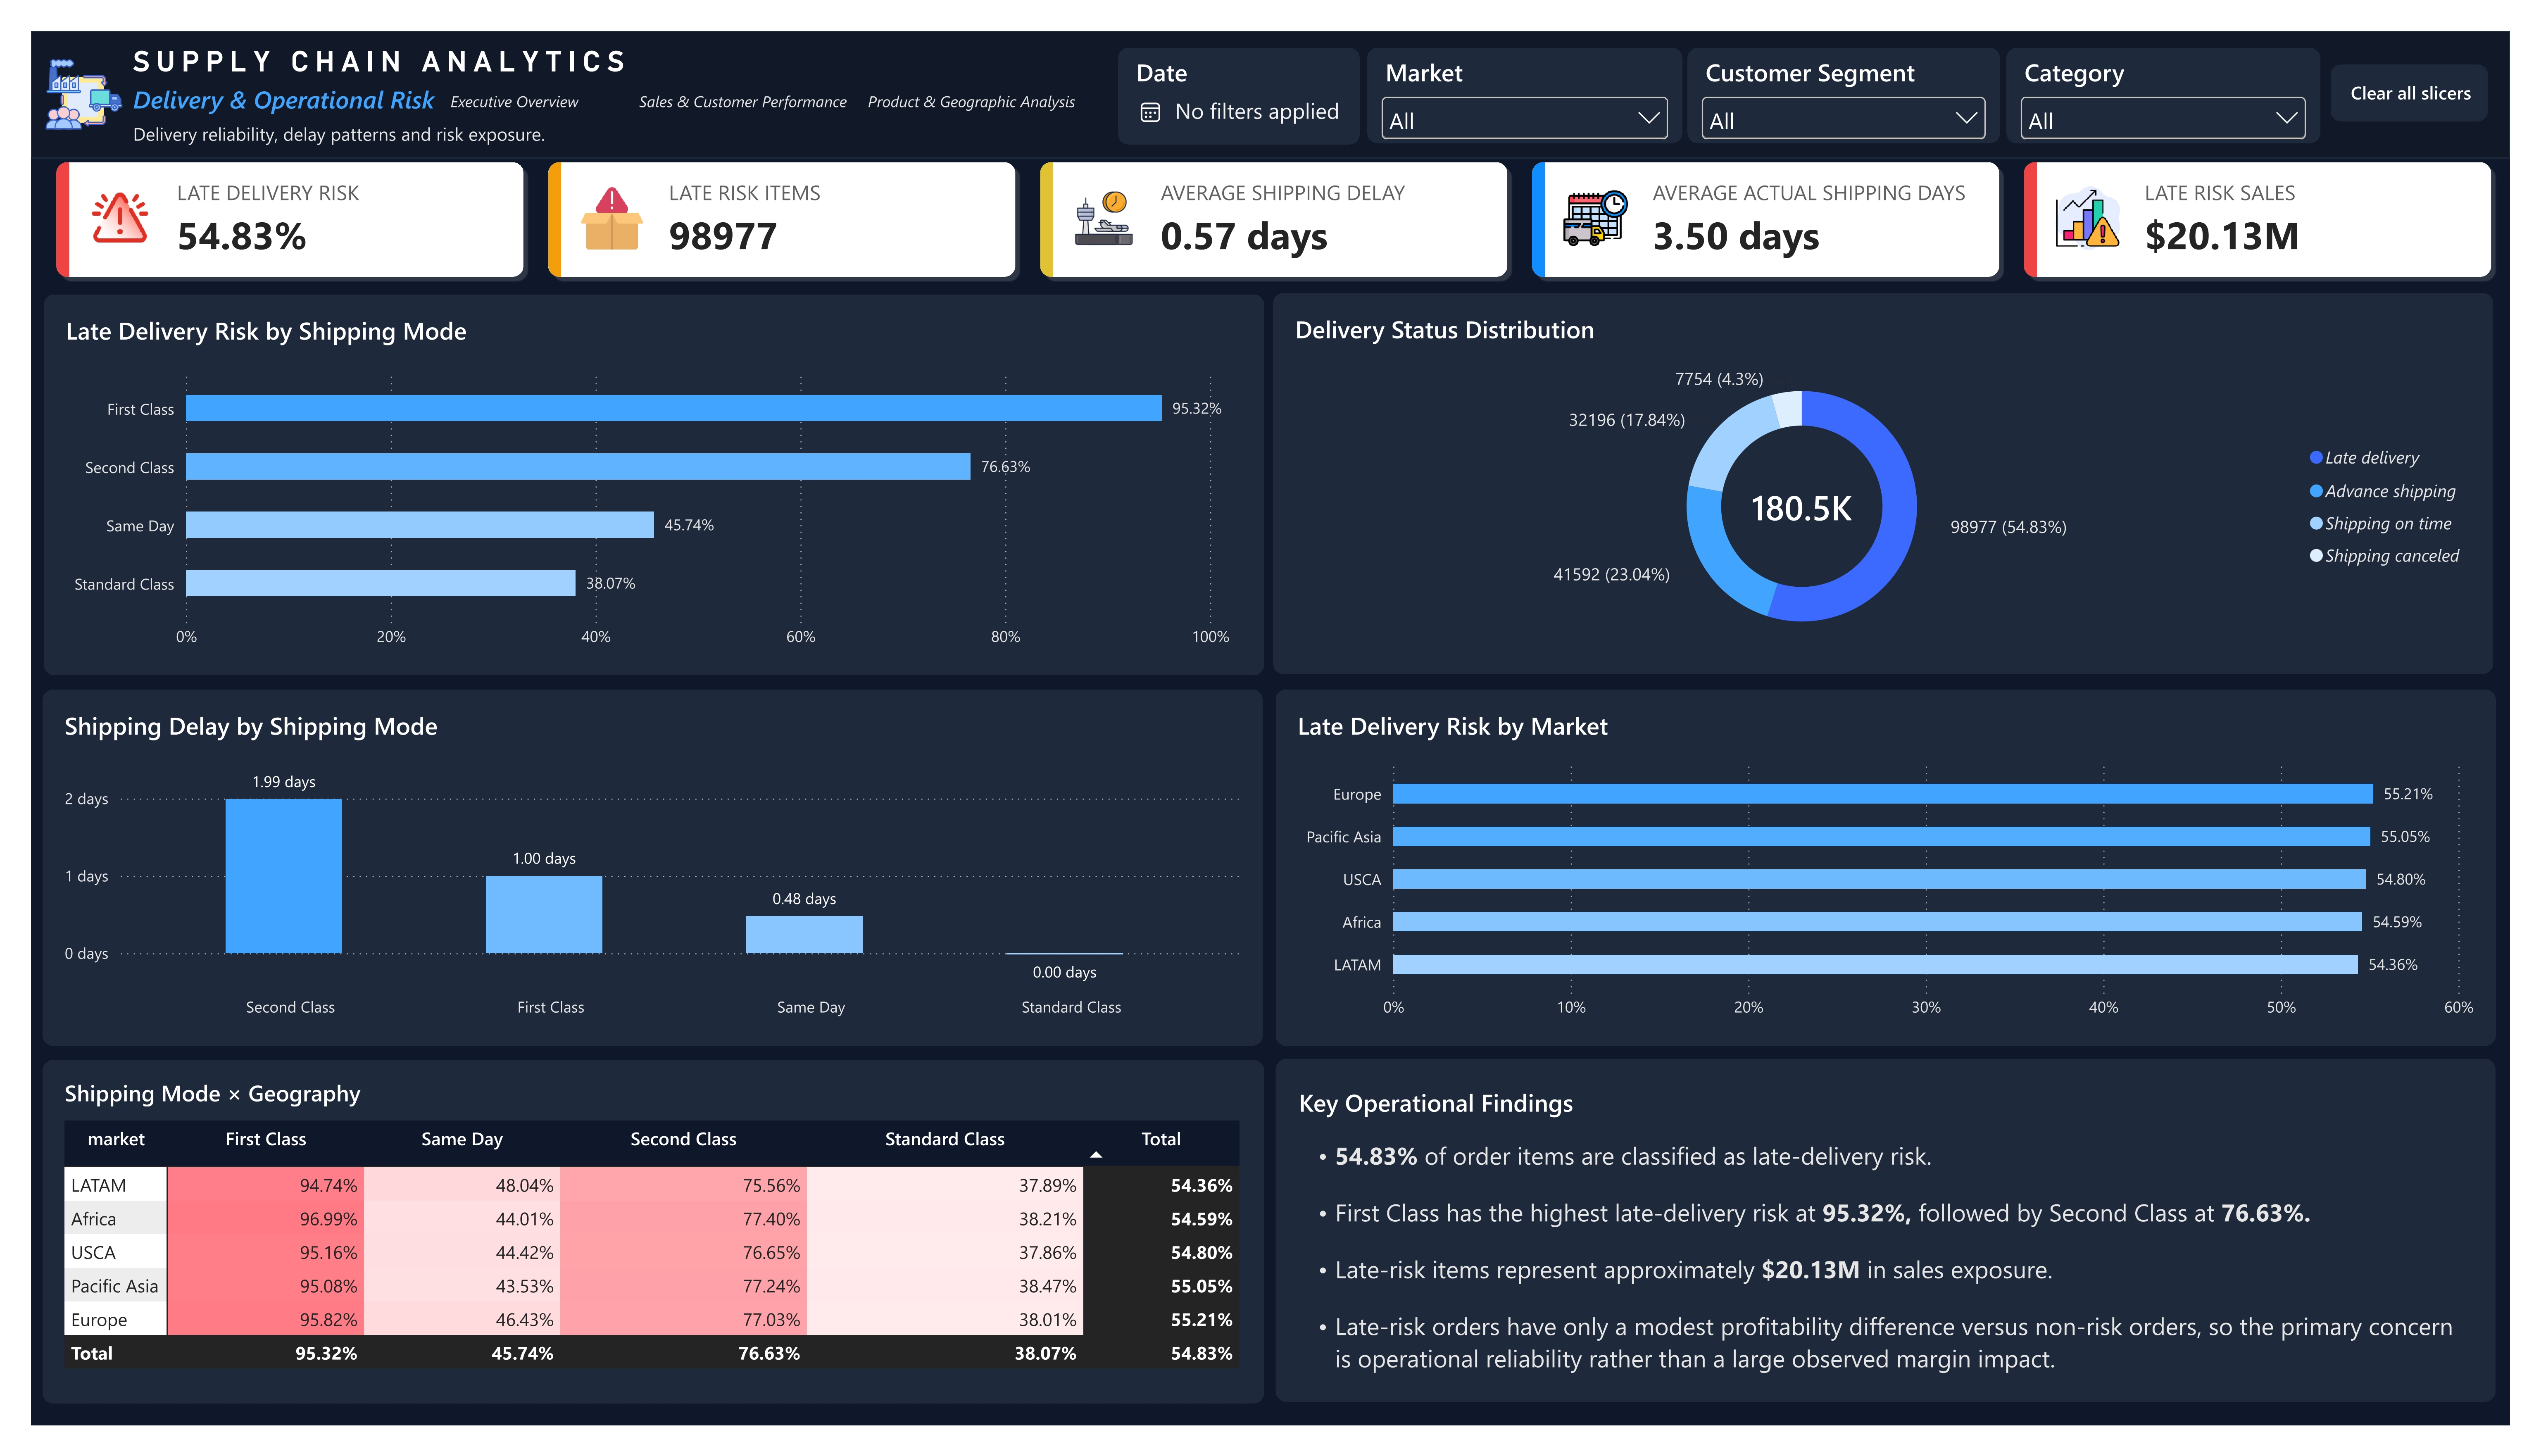

This screenshot's page, from the dashboard's own definition file:
{"tool":"powerbi","page":{"name":"Delivery & Operational Risk","canvas":[1920,1080],"ordinal":2},"visuals":[{"type":"shape","box":[0,0,1919.6,99.4],"z":0,"group":"g3"},{"type":"shape","box":[963.8,796.2,945,266.2],"z":0,"group":"g2"},{"type":"group","id":"g1","title":"Filter pane","box":[841.7,13.3,1060.9,75],"z":62,"group":"g3"},{"type":"textbox","title":"S U P P L Y   C H A I N   A N A L Y T I C S","box":[74.3,5.7,400,90],"z":93,"group":"g3"},{"type":"pageNavigator","box":[290,40,525.5,30],"z":125,"group":"g3"},{"type":"image","box":[10.6,18.9,60,60],"z":750,"group":"g3"},{"type":"clusteredBarChart","title":"Late Delivery Risk by Shipping Mode","fields":{"Category":["dim_shipping.shipping_mode"],"Y":["_Measures.Late Delivery Risk %"]},"box":[10,203.8,945.1,295],"z":1000},{"type":"donutChart","title":"Delivery Status Distribution","fields":{"Category":["fact_order_items.delivery_status"],"Y":["_Measures.Total Order Items"]},"box":[962,203.2,945.1,295],"z":2000},{"type":"clusteredColumnChart","title":"Shipping Delay by Shipping Mode","fields":{"Category":["dim_shipping.shipping_mode"],"Y":["_Measures.Average Shipping Delay"]},"box":[9.2,510,945.1,276.1],"z":3000},{"type":"clusteredBarChart","title":"Late Delivery Risk by Market","fields":{"Y":["_Measures.Late Delivery Risk %"],"Category":["dim_location.market"]},"box":[963.8,510,945,276],"z":4000},{"type":"pivotTable","title":"Shipping Mode × Geography","fields":{"Rows":["dim_location.market"],"Columns":["dim_shipping.shipping_mode"],"Values":["_Measures.Late Delivery Risk %"]},"box":[9.2,796.9,945.3,265.6],"z":5000},{"type":"cardVisual","fields":{"Data":["_Measures.Late Delivery Risk %","_Measures.Late Risk Items","_Measures.Average Shipping Delay","_Measures.Average Actual Shipping Days","_Measures.Late Risk Sales"]},"box":[13.7,95.9,1900,100],"z":5250},{"type":"actionButton","box":[1780.4,26.4,122.2,44.4],"z":5500,"group":"g1"},{"type":"group","id":"g2","title":"Insights","box":[963.8,796.2,945.4,266.2],"z":5500},{"type":"slicer","title":"Date","fields":{"Values":["dim_date.full_date"]},"box":[841.7,13.3,187.2,75],"z":6000,"group":"g1"},{"type":"group","id":"g3","title":"Nav Bar","box":[0,0,1919.6,99.4],"z":7000},{"type":"slicer","title":"Location","fields":{"Values":["dim_location.market"]},"box":[1034.8,13.3,243.4,73.7],"z":7000,"group":"g1"},{"type":"slicer","title":"Customer","fields":{"Values":["dim_customer.customer_segment"]},"box":[1282.9,13.3,242.2,73.7],"z":9000,"group":"g1"},{"type":"textbox","title":"Key Operational Findings","box":[971.7,806.8,921.5,243.8],"z":9000,"group":"g2"},{"type":"slicer","title":"Shipping Mode","fields":{"Values":["dim_product.category_name"]},"box":[1529.9,13.3,242.9,74.4],"z":10000,"group":"g1"}]}

Visuals, with their boxes on the page's 1920x1080 design canvas (x1, y1, x2, y2). These are canvas units, not pixel positions in the 2541x1456 screenshot, which may show the page scaled, cropped or inside an application window:
shape: select_region(0, 0, 1920, 99)
shape: select_region(964, 796, 1909, 1062)
"Filter pane" group: select_region(842, 13, 1903, 88)
"S U P P L Y   C H A I N   A N A L Y T I C S" textbox: select_region(74, 6, 474, 96)
pageNavigator: select_region(290, 40, 816, 70)
image: select_region(11, 19, 71, 79)
"Late Delivery Risk by Shipping Mode" clusteredBarChart: select_region(10, 204, 955, 499)
"Delivery Status Distribution" donutChart: select_region(962, 203, 1907, 498)
"Shipping Delay by Shipping Mode" clusteredColumnChart: select_region(9, 510, 954, 786)
"Late Delivery Risk by Market" clusteredBarChart: select_region(964, 510, 1909, 786)
"Shipping Mode × Geography" pivotTable: select_region(9, 797, 954, 1062)
cardVisual - _Measures.Late Delivery Risk % x _Measures.Late Risk Items: select_region(14, 96, 1914, 196)
actionButton: select_region(1780, 26, 1903, 71)
"Insights" group: select_region(964, 796, 1909, 1062)
"Date" slicer: select_region(842, 13, 1029, 88)
"Nav Bar" group: select_region(0, 0, 1920, 99)
"Location" slicer: select_region(1035, 13, 1278, 87)
"Customer" slicer: select_region(1283, 13, 1525, 87)
"Key Operational Findings" textbox: select_region(972, 807, 1893, 1051)
"Shipping Mode" slicer: select_region(1530, 13, 1773, 88)
